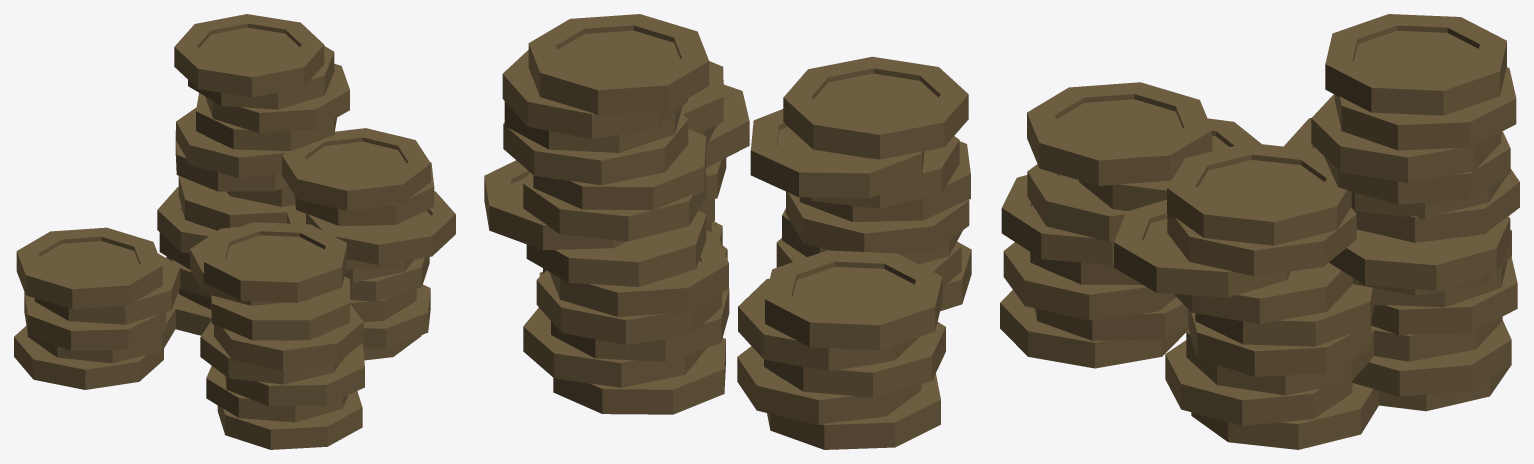
File: dn_coin_pile.glb
3 views of the same model, side by side, from view 1: azimuth 30°, elevation 25°; view 2: azimuth 150°, elevation 25°; view 3: azimuth 270°, elevation 25° (orthographic). The views are drawn at different scales.
Visible parts, largest first — view 1: dn_coin_pile2; view 2: dn_coin_pile2; view 3: dn_coin_pile2.
Boxes of the visible parts, x1=… form: dn_coin_pile2: x1=14, y1=14, x2=455, y2=449; dn_coin_pile2: x1=484, y1=14, x2=971, y2=449; dn_coin_pile2: x1=1000, y1=14, x2=1519, y2=449.
Bounding box in the file's own units: 0.5044 × 0.35 × 0.5009.
